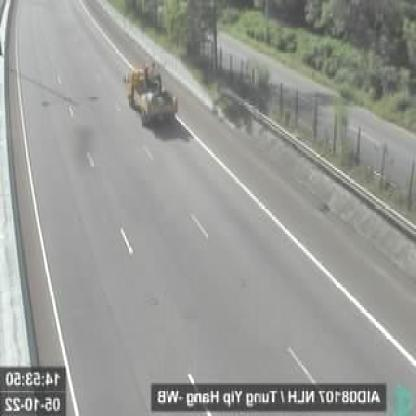Truck: (126, 62, 178, 123)
